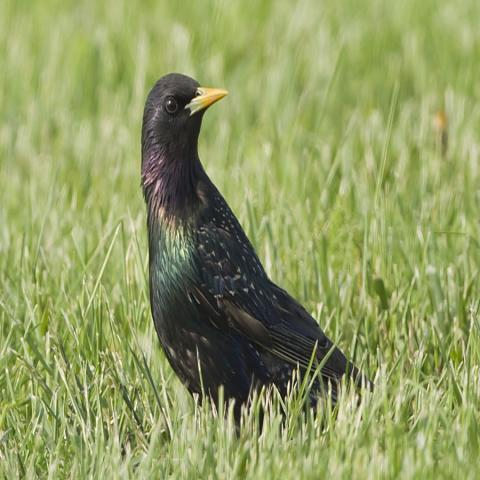bird: (138, 69, 376, 427)
